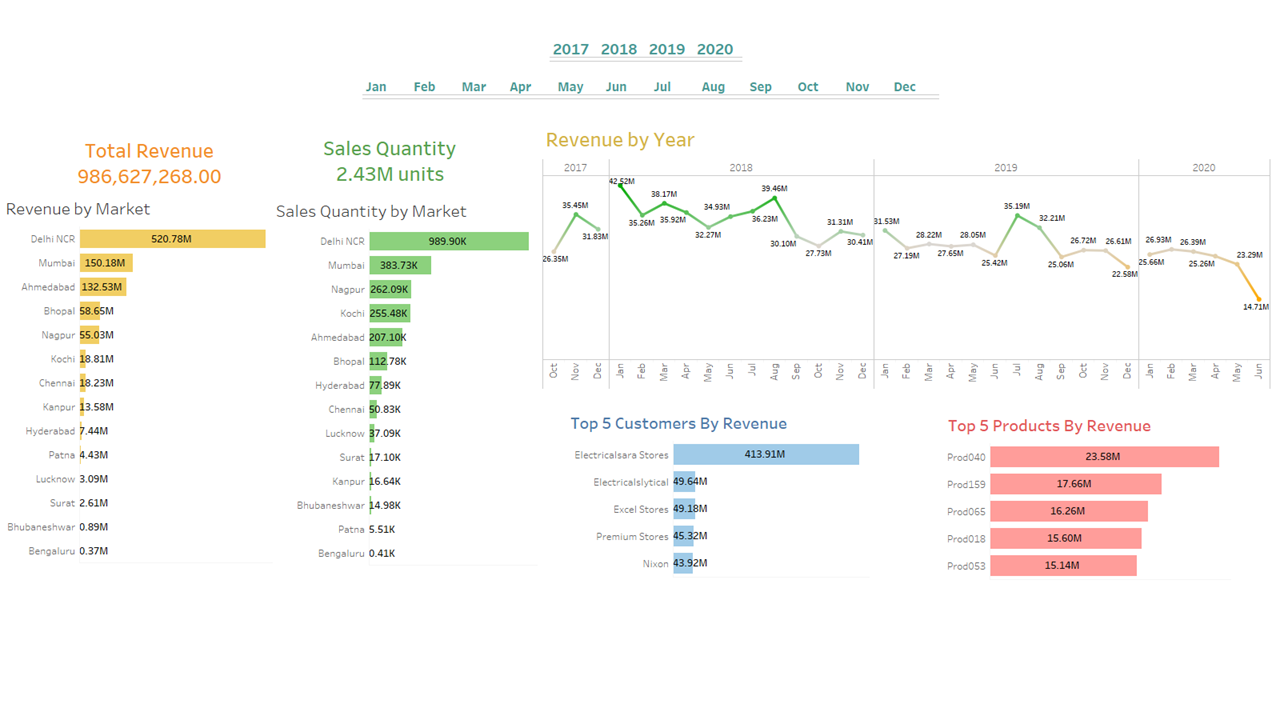

What the dashboard file says about the page in this screenshot:
{"tool":"tableau","page":{"name":"Dashboard 1","canvas":[1600,900],"ordinal":0},"visuals":[{"type":"worksheet","title":"Year","mark":"Automatic","cols":["cy_date"],"box":[687,35,252,45]},{"type":"worksheet","title":"Month","mark":"Automatic","cols":["cy_date"],"box":[453,83,729,64]},{"type":"worksheet","title":"Revenue by Year","mark":"Automatic","rows":["Calculation_1125337002732572674"],"cols":["cy_date","cy_date"],"box":[678,151,911,336]},{"type":"worksheet","title":"Quantity","mark":"Automatic","box":[398,153,197,83]},{"type":"worksheet","title":"Revenue","mark":"Automatic","box":[87,156,207,89]},{"type":"worksheet","title":"Revenue by Market","mark":"Automatic","rows":["markets_name"],"cols":["Calculation_1125337002732572674"],"box":[3,240,341,546]},{"type":"worksheet","title":"Sales Quantity by Market","mark":"Automatic","rows":["markets_name"],"cols":["sales_qty"],"box":[341,243,330,548]},{"type":"worksheet","title":"Top 5 Customers By Revenue ","mark":"Automatic","rows":["custmer_name"],"cols":["Calculation_1125337002732572674"],"box":[709,508,377,279]},{"type":"worksheet","title":"Top 5 Products By Revenue","mark":"Automatic","rows":["product_code (products)"],"cols":["Calculation_1125337002732572674"],"box":[1181,511,357,273]}]}

Visuals, with their boxes in screenshot pixels (x1, y1, x2, y2), scaled from the page's 1600x900 canvas onto the 1280x720 screenshot:
"Year" worksheet: rect(550, 28, 751, 64)
"Month" worksheet: rect(362, 66, 946, 118)
"Revenue by Year" worksheet: rect(542, 121, 1271, 390)
"Quantity" worksheet: rect(318, 122, 476, 189)
"Revenue" worksheet: rect(70, 125, 235, 196)
"Revenue by Market" worksheet: rect(2, 192, 275, 629)
"Sales Quantity by Market" worksheet: rect(273, 194, 537, 633)
"Top 5 Customers By Revenue " worksheet: rect(567, 406, 869, 630)
"Top 5 Products By Revenue" worksheet: rect(945, 409, 1230, 627)
